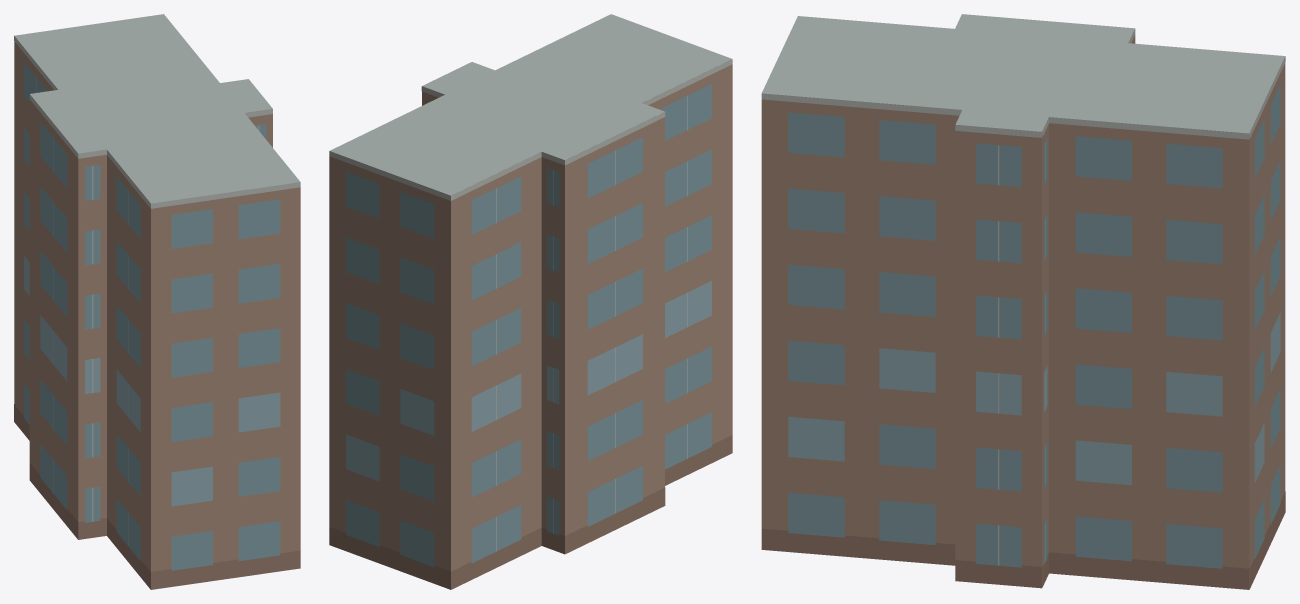
File: survey-upis-32971118.glb
3 renders of one model, left to right at view 1: azimuth 30°, elevation 25°; view 2: azimuth 150°, elevation 25°; view 3: azimuth 270°, elevation 25°, orthographic. The views are drawn at different scales.
Parts seen in each view (by area): view 1: survey-upis-32971118.tmp; view 2: survey-upis-32971118.tmp; view 3: survey-upis-32971118.tmp.
Part boxes in pixels (x1=…): survey-upis-32971118.tmp: x1=14, y1=14, x2=300, y2=589; survey-upis-32971118.tmp: x1=329, y1=14, x2=732, y2=589; survey-upis-32971118.tmp: x1=761, y1=14, x2=1285, y2=589.
Bounding box in the file's own units: 10.29 × 18.3 × 19.05.
